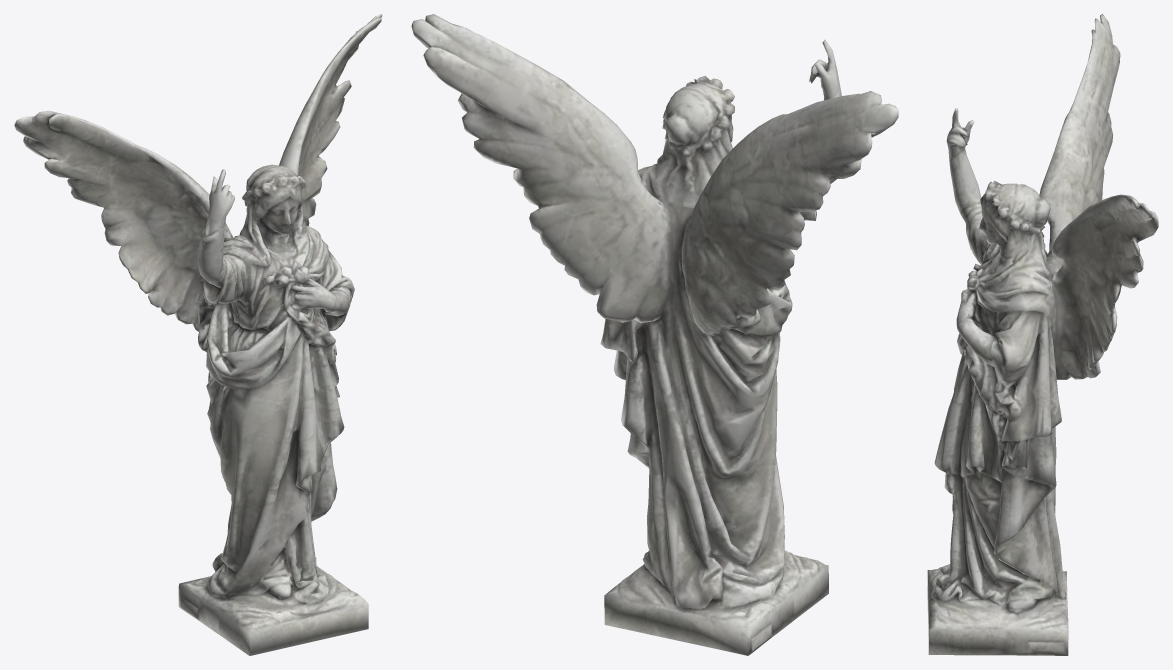
Rendered from angel-opt.glb.
The picture shows the model from 3 angles, left to right: view 1: azimuth 30°, elevation 25°; view 2: azimuth 150°, elevation 25°; view 3: azimuth 270°, elevation 25°; orthographic projection. The views are drawn at different scales.
Visible parts, largest first — view 1: SilverAngel_LP_Unwrap#1_0; view 2: SilverAngel_LP_Unwrap#1_0; view 3: SilverAngel_LP_Unwrap#1_0.
Boxes of the visible parts, box(x1,y1,x2,y2) form: SilverAngel_LP_Unwrap#1_0: box(14, 14, 382, 655); SilverAngel_LP_Unwrap#1_0: box(411, 14, 898, 655); SilverAngel_LP_Unwrap#1_0: box(927, 14, 1158, 655).
Bounding box in the file's own units: 6.77 × 8.61 × 3.48.
1 material, 1 textured.
